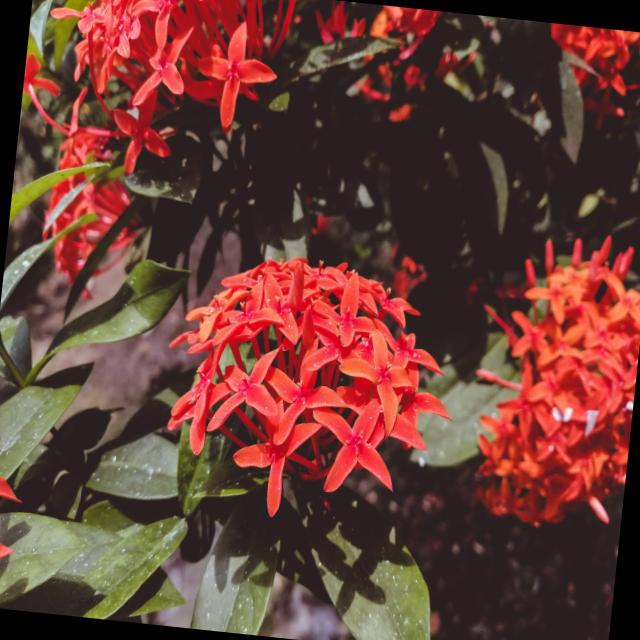Chinese-Ixora: (147, 216, 452, 526), (24, 0, 273, 343), (465, 213, 640, 539), (311, 0, 488, 119), (540, 22, 640, 114)
